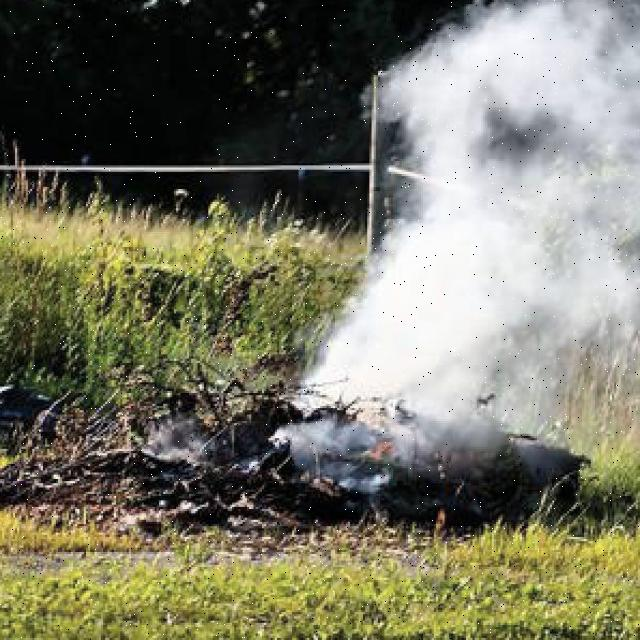smoke: (277, 0, 640, 475), (146, 400, 211, 476)
